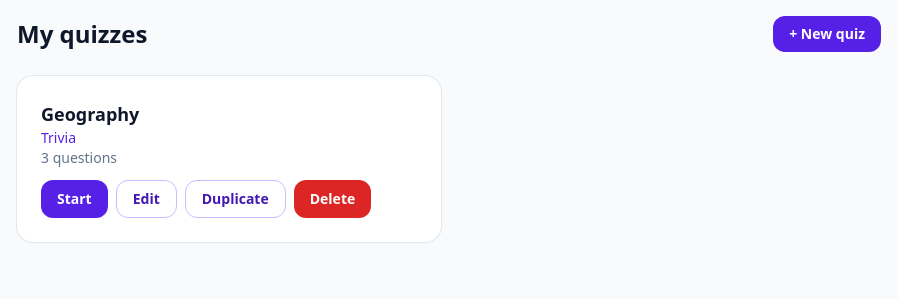
Dashboard page › deletes a quiz after confirmation and removes it from the list
The image size is (898, 299).
Click the button "Delete".
click(332, 199)  # box [294,180,371,218]
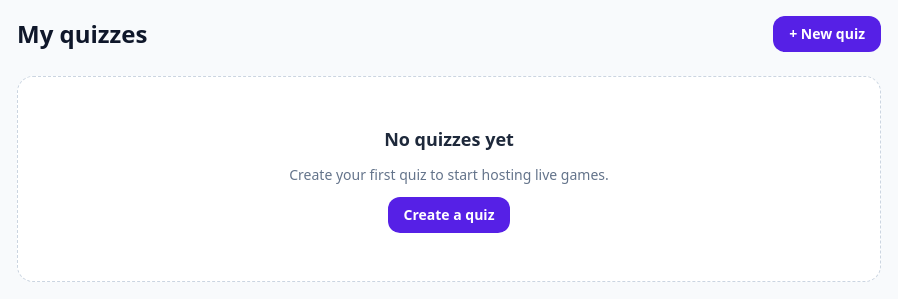
Check: the heading "Geography" is gone
